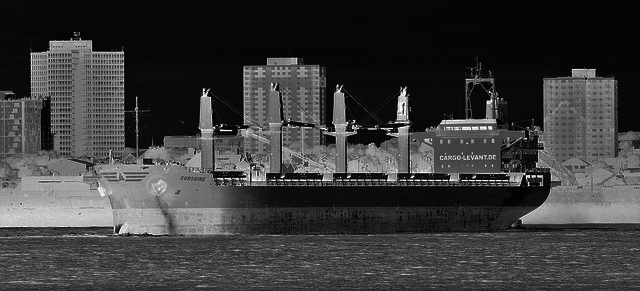bulk carrier: (95, 63, 555, 236)
